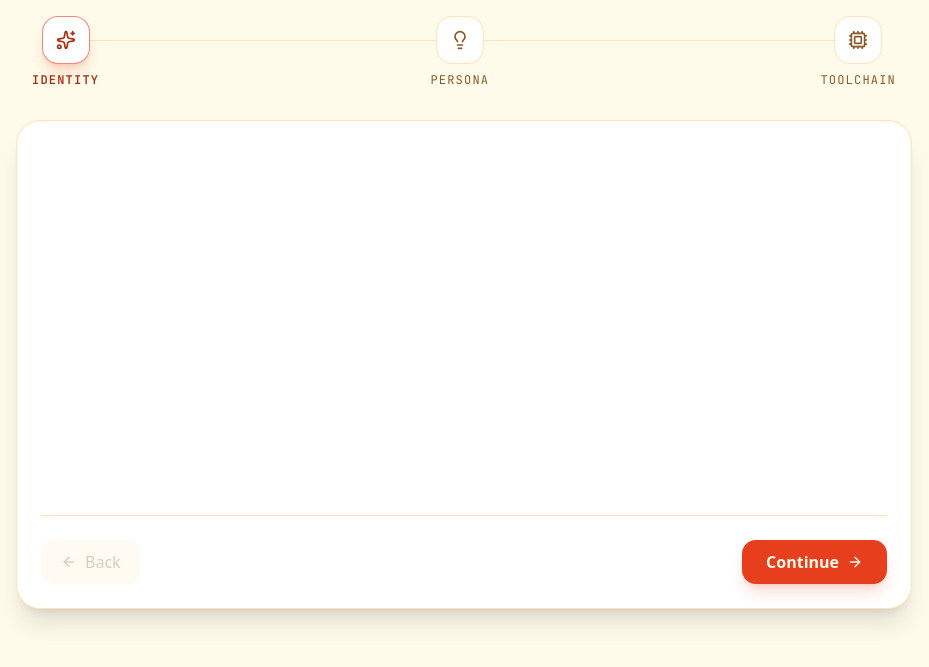
AgentWizard › blocks continue when the agent name is missing
Click the button "Continue" at (815, 562), box [742,540,887,584]
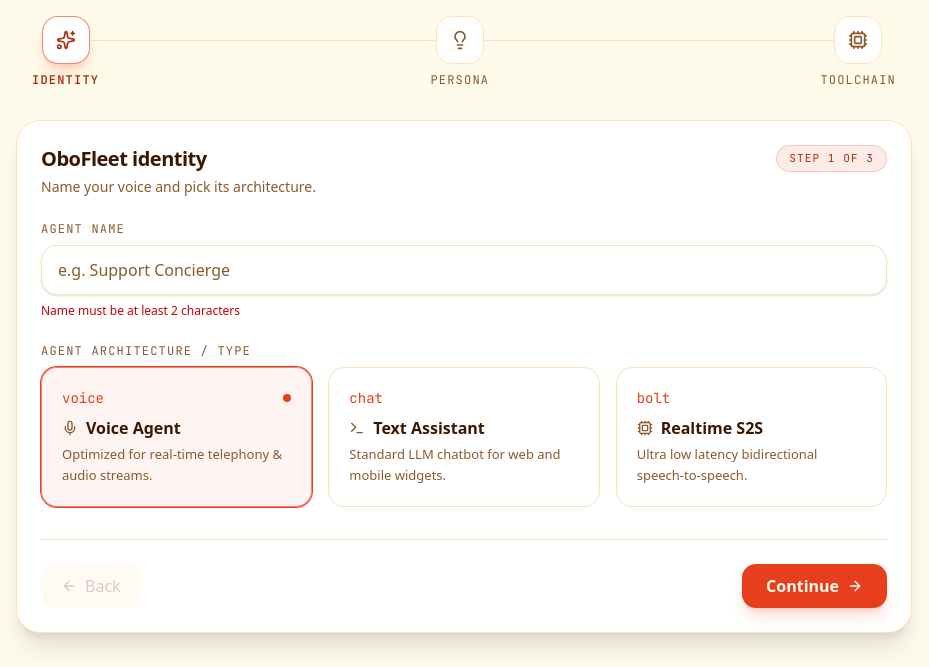
Check: the text "Name must be at least 2 characters" is shown, box [41,302,240,319]
Check: the text "Step 1 of 3" is shown, box [776,145,887,172]
